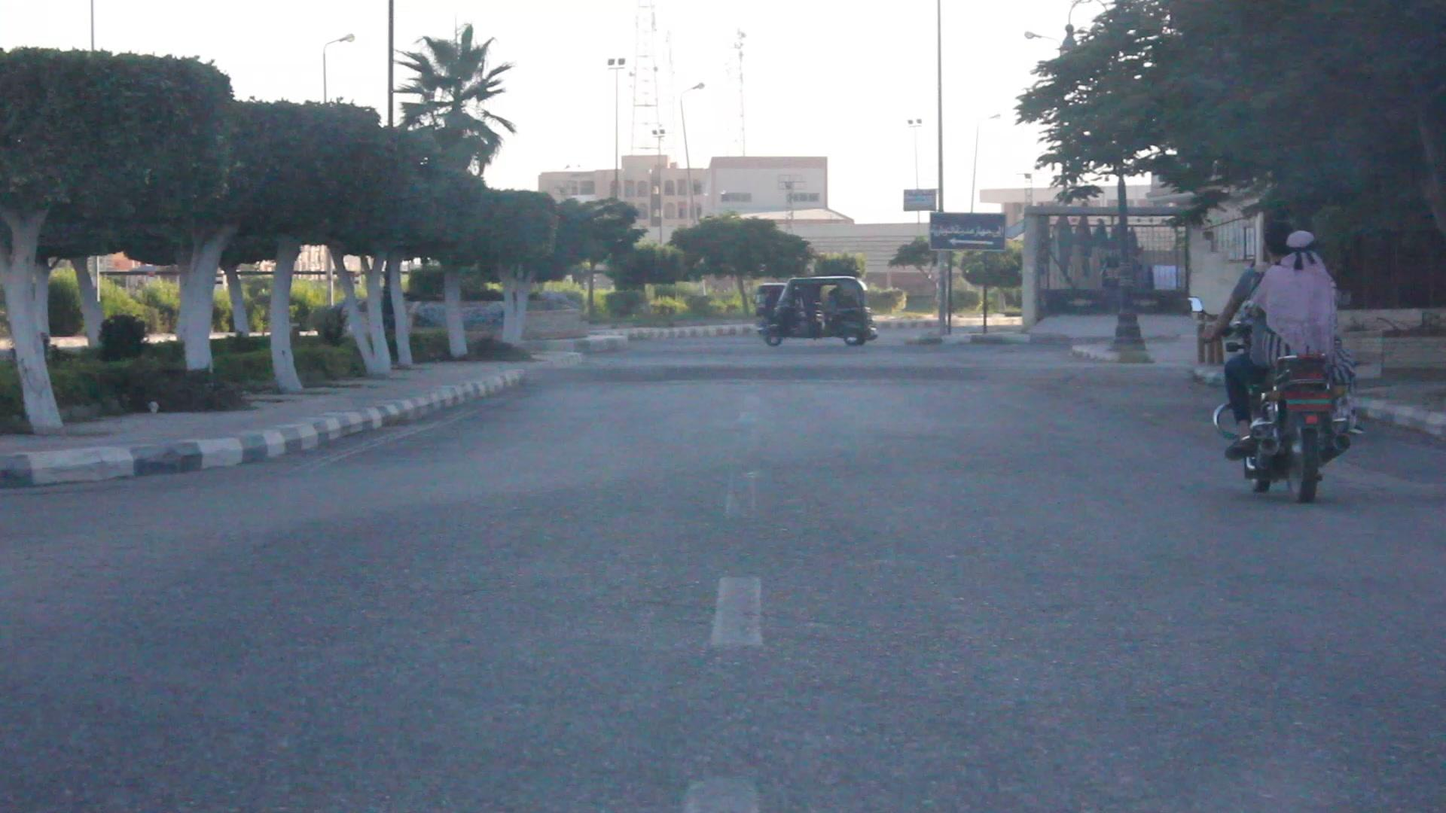Bump: (557, 358, 1028, 403)
